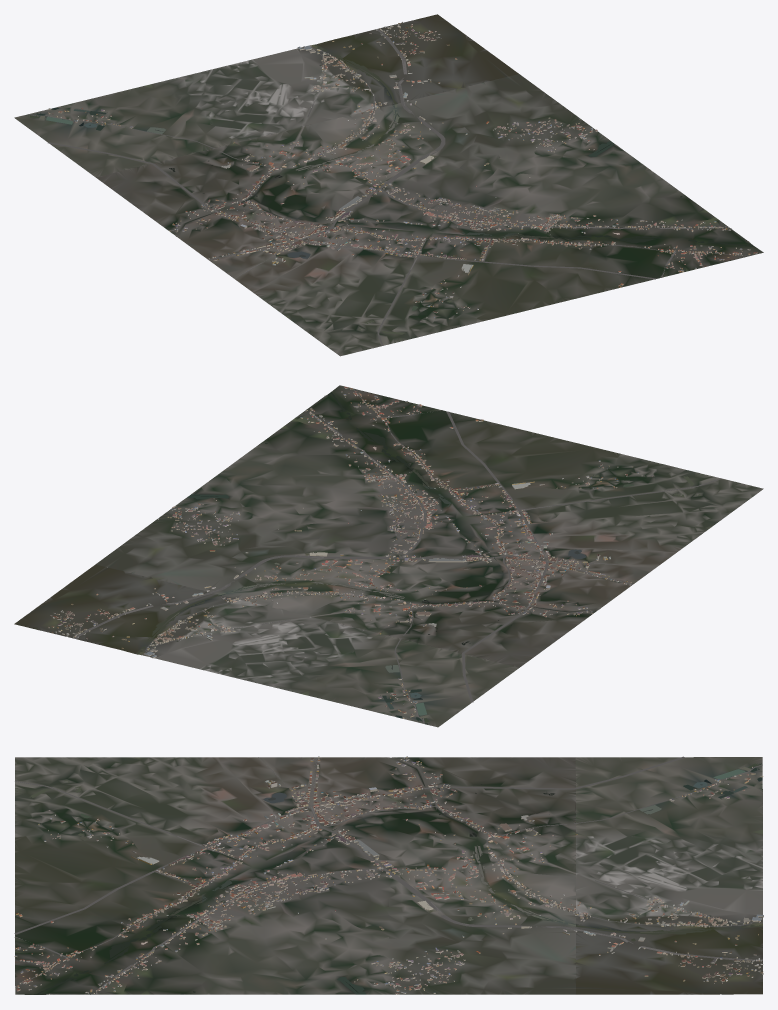
3 views of the same model, one above another, from view 1: azimuth 30°, elevation 25°; view 2: azimuth 150°, elevation 25°; view 3: azimuth 270°, elevation 25° (orthographic). The views are drawn at different scales.
Parts seen in each view (by area): view 1: ground, buildings, roads, water; view 2: ground, buildings, roads, water; view 3: ground, buildings, roads, water.
Boxes of the visible parts, x1,y1,x2,y2 form: ground: [14, 14, 763, 356]; buildings: [37, 22, 757, 321]; roads: [28, 28, 751, 345]; water: [26, 44, 755, 342]; ground: [14, 385, 763, 727]; buildings: [48, 386, 653, 719]; roads: [73, 388, 721, 723]; water: [136, 391, 708, 724]; ground: [15, 757, 762, 994]; buildings: [14, 756, 763, 994]; roads: [14, 756, 762, 994]; water: [15, 763, 762, 994].
Size of the model in its own units: 4228 by 38.09 by 5622.
